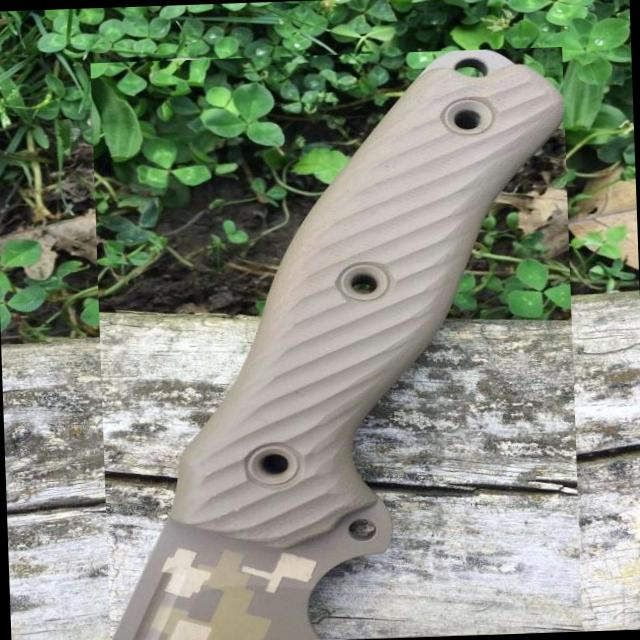Knife: (113, 49, 564, 640)
